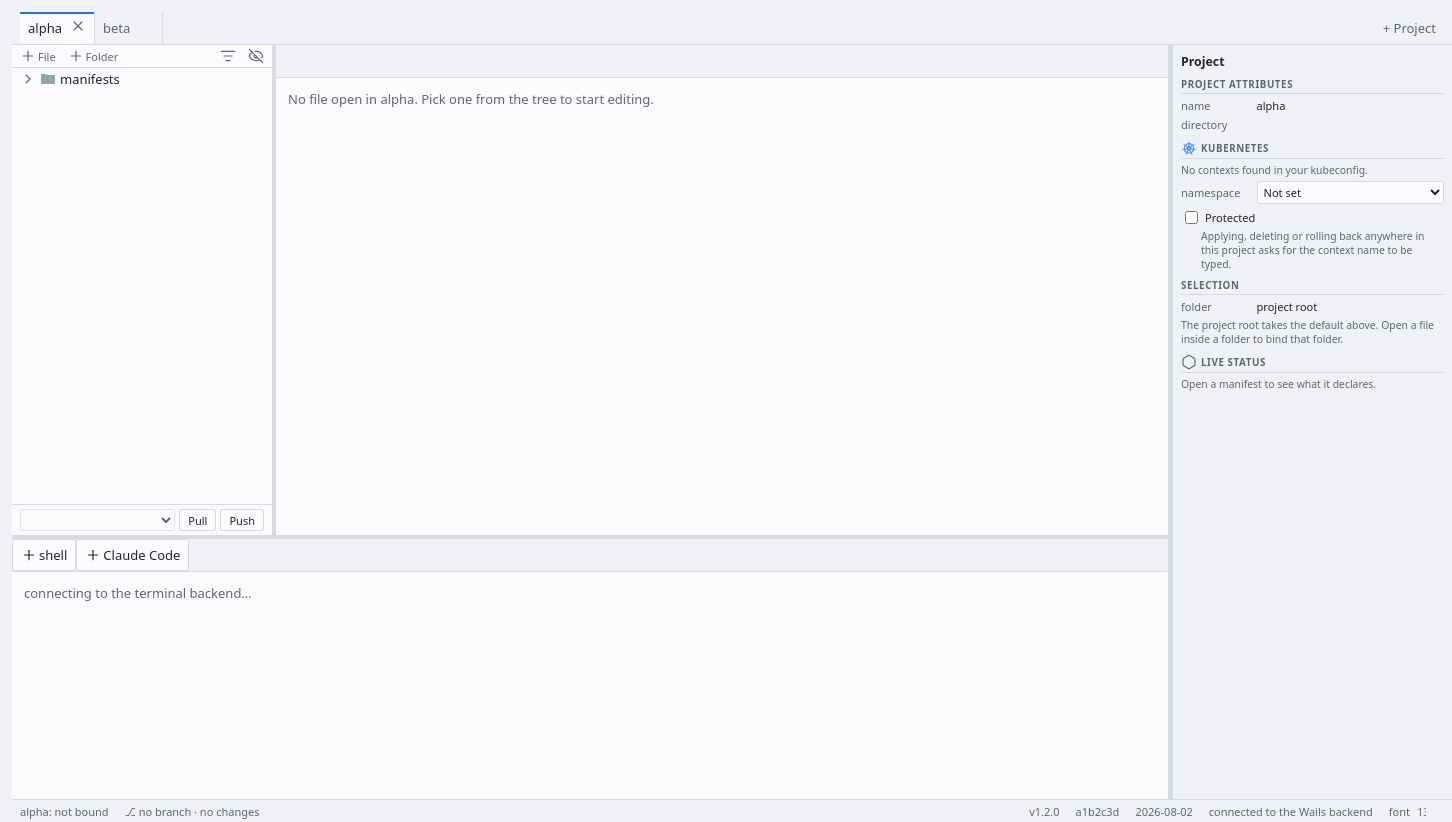
a project tab keeping its state (#59) › gives a re-added project a tree with nothing of the old one in it
Click the list item "manifests": (70, 79) [20,70,120,88]
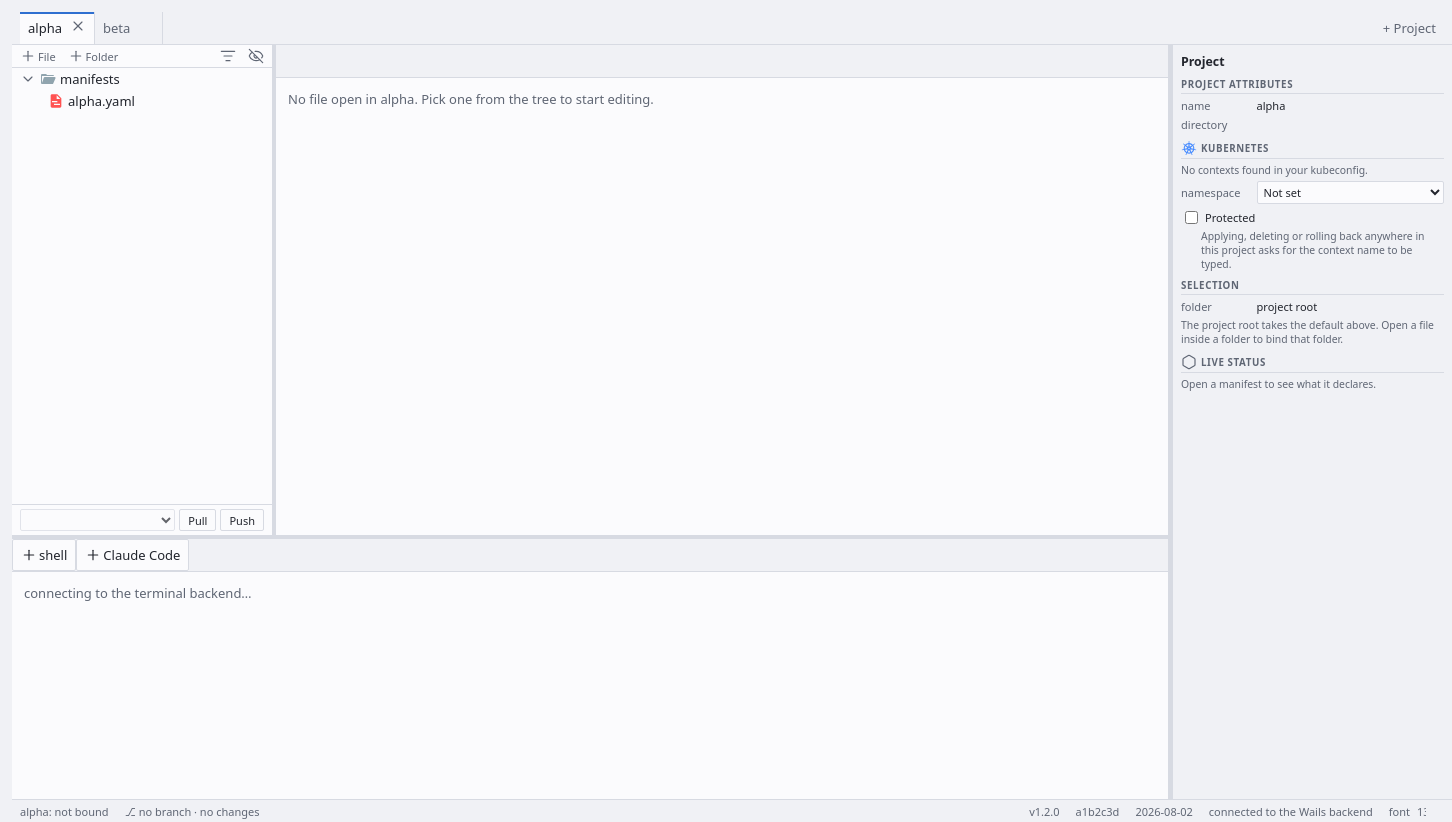
Now the list item "alpha.yaml" is shown, box [48,92,135,110]
Click the button named "Remove alpha from the project list": (82, 28) [70,18,94,38]
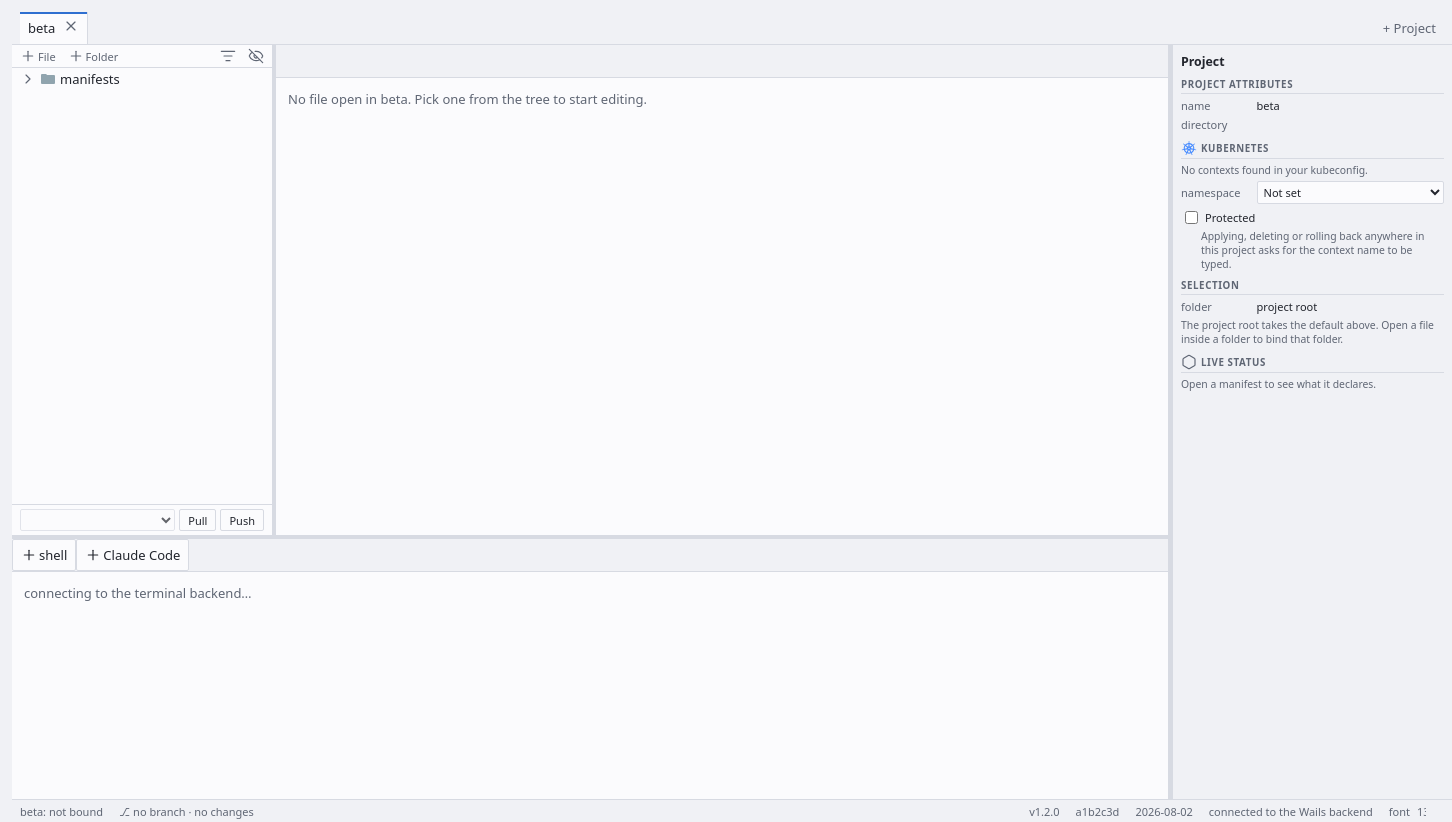
Now the button "alpha" is gone
Click the button "+ Project": (1409, 28) [1375,12,1444,44]
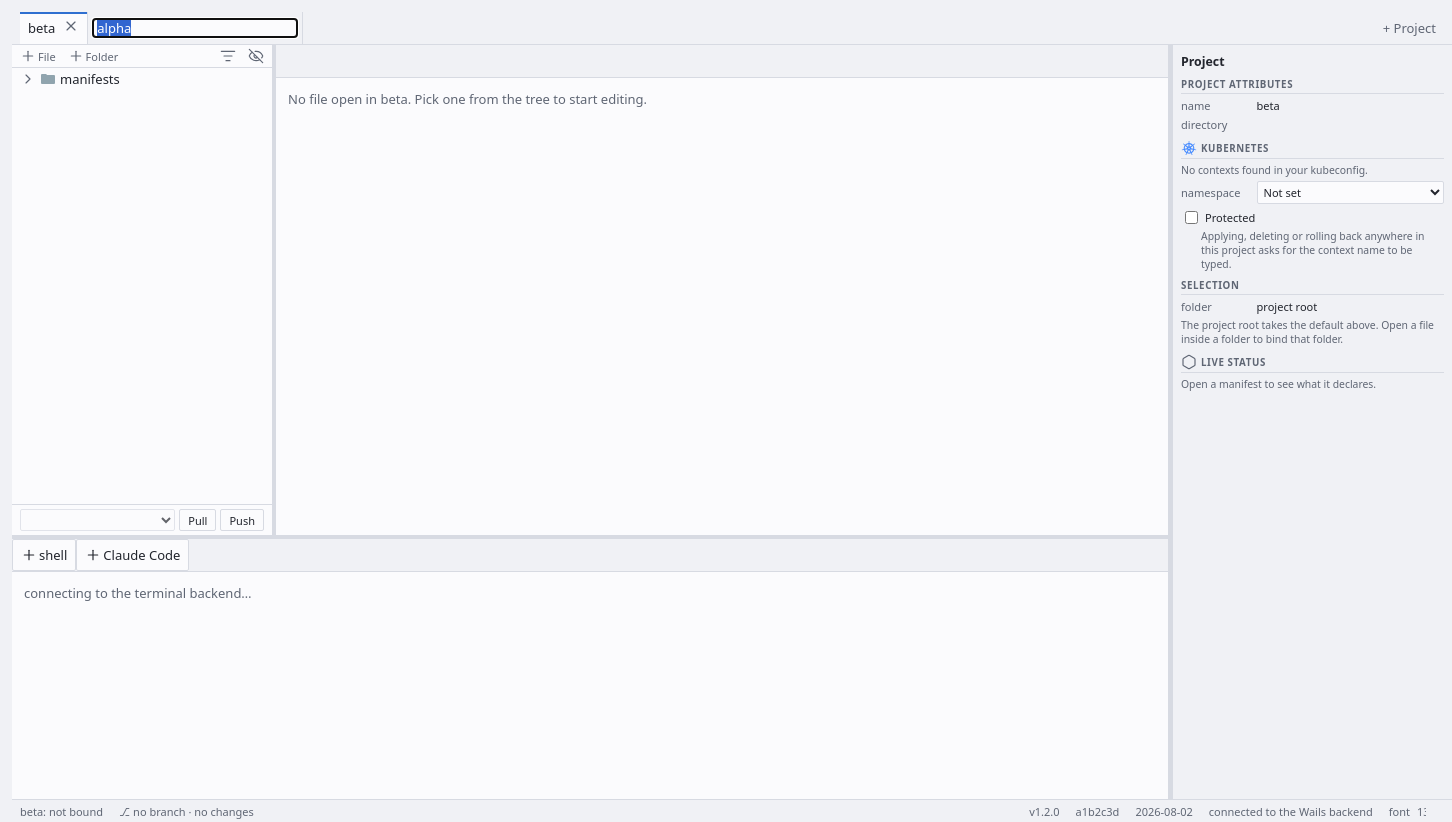
Press Enter in the field named "project name", box [92,18,298,38]
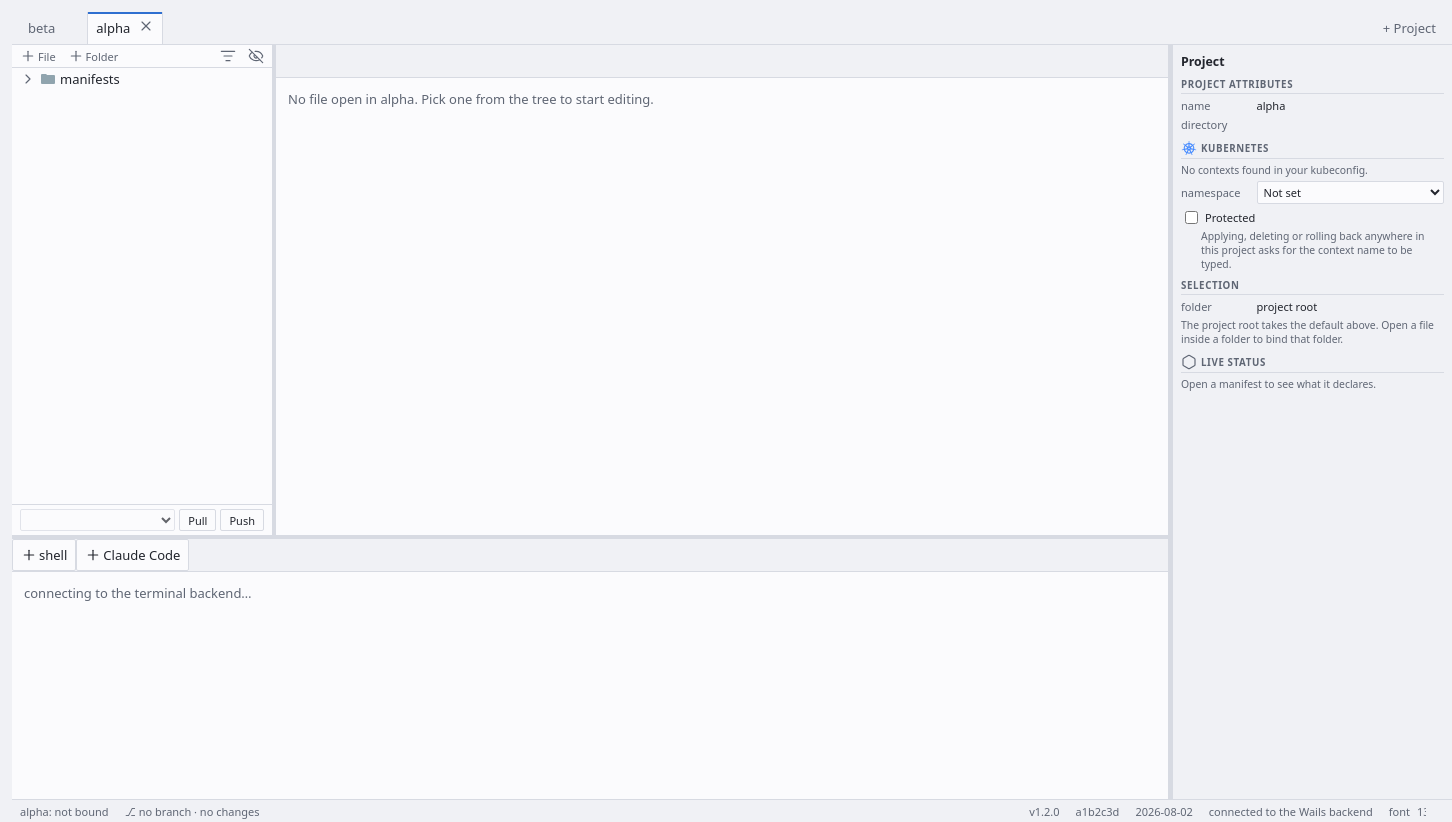
Expected: the list item "manifests" is shown, [20,70,120,88]
Now the button "alpha" is shown, box [88,19,138,37]
